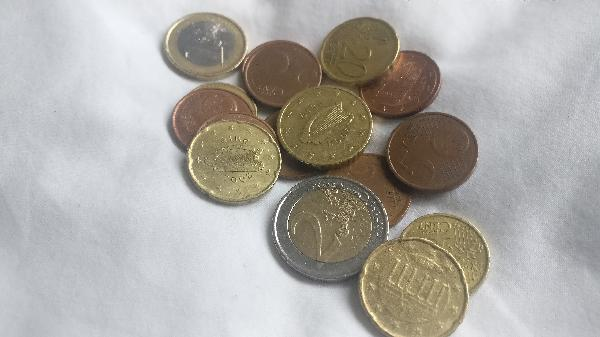Fifty Cent: (280, 87, 372, 168)
Five Cent: (343, 51, 449, 117), (390, 116, 479, 193), (324, 150, 411, 227), (169, 88, 247, 151), (247, 41, 321, 101)
One Euro: (165, 13, 249, 80)
Ten Cent: (403, 214, 489, 297)
Twenty Cent: (359, 237, 473, 337), (189, 123, 281, 201), (321, 17, 398, 81)
Two Euro: (273, 175, 394, 280)
